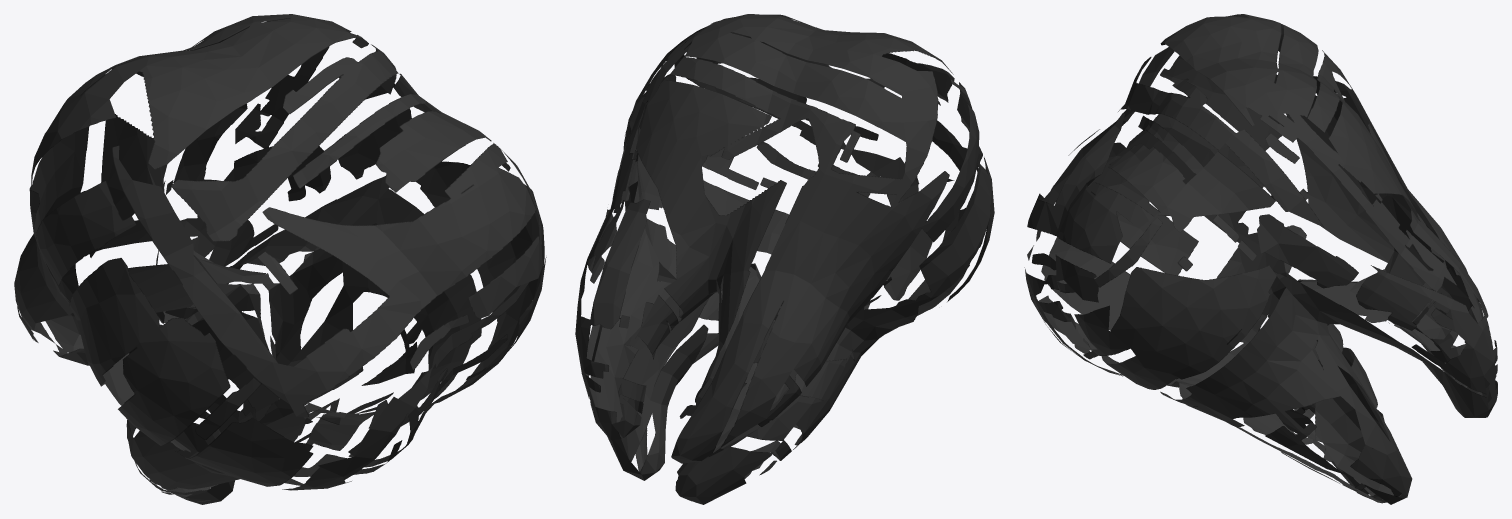
The model's file is Tooth.obj.
The picture shows the model from 3 angles, left to right: view 1: azimuth 30°, elevation 25°; view 2: azimuth 150°, elevation 25°; view 3: azimuth 270°, elevation 25°; orthographic projection. The views are drawn at different scales.
Visible parts, largest first — view 1: model_0; view 2: model_0; view 3: model_0.
Part boxes in pixels (x1,y1,x2,y2): model_0: (14, 14, 546, 504); model_0: (575, 14, 994, 504); model_0: (1024, 14, 1497, 504).
Bounding box in the file's own units: 75.62 × 88.06 × 88.72.
